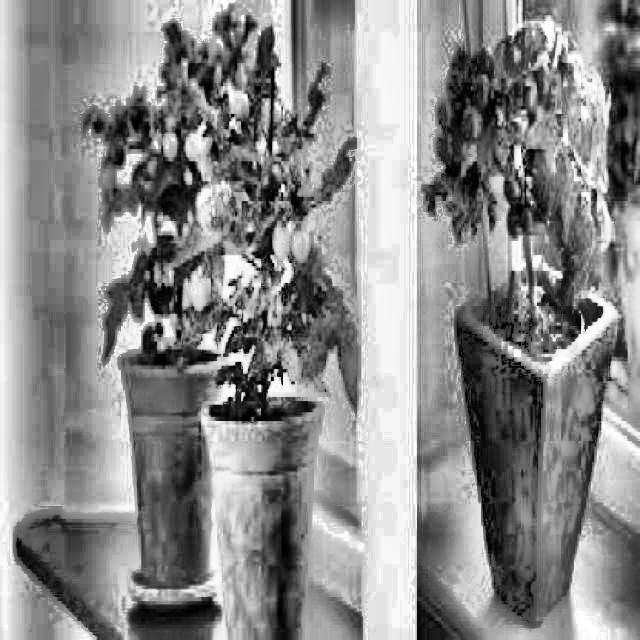plants: (88, 19, 346, 636), (429, 19, 622, 636)
